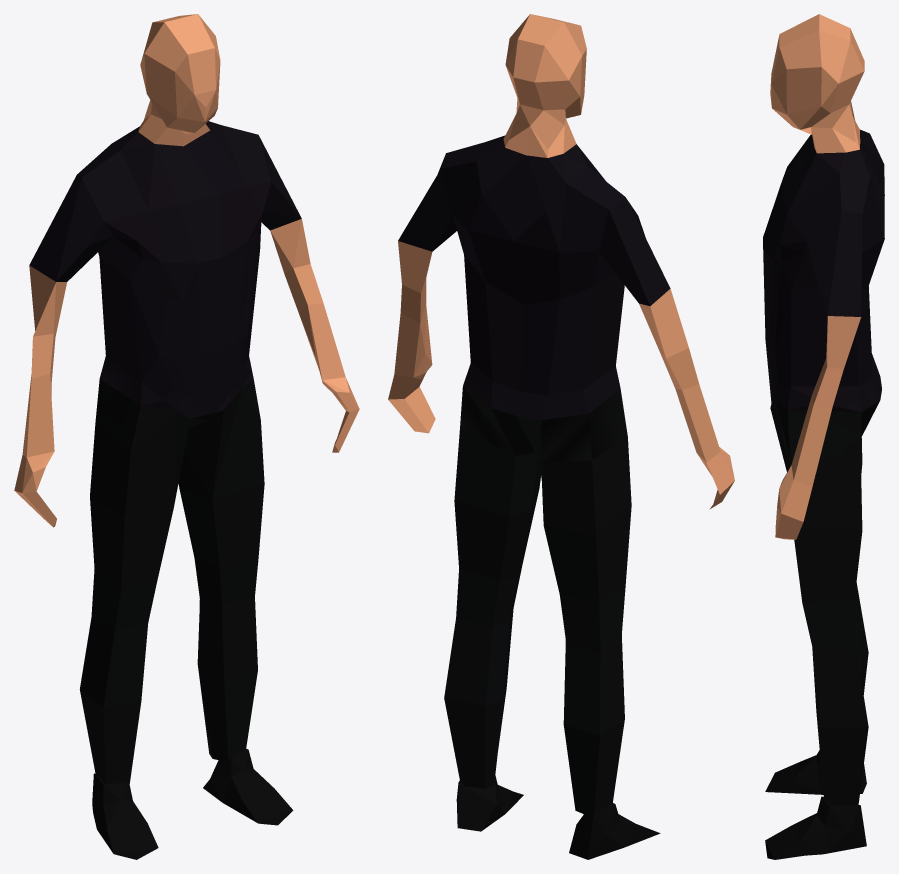
Rendered from character.obj.
3 renders of one model, left to right at view 1: azimuth 30°, elevation 25°; view 2: azimuth 150°, elevation 25°; view 3: azimuth 270°, elevation 25°, orthographic.
Parts seen in each view (by area): view 1: Body_Cube.033; view 2: Body_Cube.033; view 3: Body_Cube.033.
Part boxes in pixels (x1,y1,x2,y2): Body_Cube.033: [14, 14, 359, 859]; Body_Cube.033: [388, 14, 734, 859]; Body_Cube.033: [763, 14, 884, 859].
Bounding box in the file's own units: 0.7651 × 1.75 × 0.2405.
